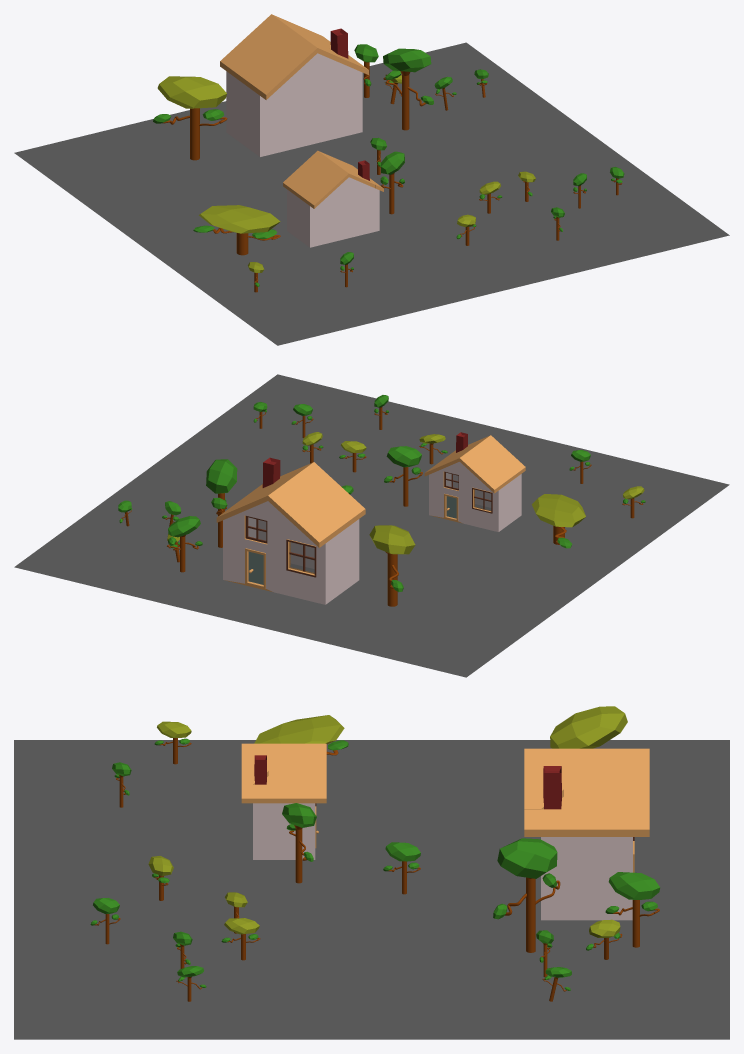
File: house1.glb
3 views of the same model, one above another, from view 1: azimuth 30°, elevation 25°; view 2: azimuth 150°, elevation 25°; view 3: azimuth 270°, elevation 25° (orthographic). The views are drawn at different scales.
Visible parts, largest first — view 1: Plane.001, Plane, house, house.001, tree.003, tree.005, tree.002, tree.004, tree; view 2: Plane.001, Plane, house, house.001, tree.003, tree.005, tree.002, tree.004, tree, window2, window1; view 3: Plane.001, Plane, house, house.001, tree.002, tree.003, tree.005, tree, tree.004, tree.001, tree.013, tree.011 (+3 smaller).
Boxes of the visible parts, <box> form: Plane.001: <box>142,136,729,345</box>; Plane: <box>14,42,594,246</box>; house: <box>220,14,368,156</box>; house.001: <box>283,150,383,247</box>; tree.003: <box>153,76,227,160</box>; tree.005: <box>193,205,280,255</box>; tree.002: <box>383,48,433,130</box>; tree.004: <box>380,151,404,214</box>; tree: <box>354,44,378,97</box>; Plane.001: <box>142,374,729,583</box>; Plane: <box>14,473,593,677</box>; house: <box>216,457,365,604</box>; house.001: <box>424,432,525,531</box>; tree.003: <box>369,525,415,606</box>; tree.005: <box>532,494,585,548</box>; tree.002: <box>206,459,237,547</box>; tree.004: <box>384,446,422,506</box>; tree: <box>167,516,202,572</box>; window2: <box>289,542,314,573</box>; window1: <box>245,516,267,543</box>; Plane.001: <box>14,740,382,1039</box>; Plane: <box>379,740,729,1039</box>; house: <box>524,748,649,920</box>; house.001: <box>241,743,326,859</box>; tree.002: <box>493,838,560,952</box>; tree.003: <box>550,706,627,748</box>; tree.005: <box>254,715,348,755</box>; tree: <box>605,872,660,947</box>; tree.004: <box>282,803,316,883</box>; tree.001: <box>383,842,420,894</box>; tree.013: <box>221,918,260,960</box>; tree.011: <box>154,721,191,764</box>.
Bounding box in the file's own units: 15.42 × 3.51 × 15.56.
